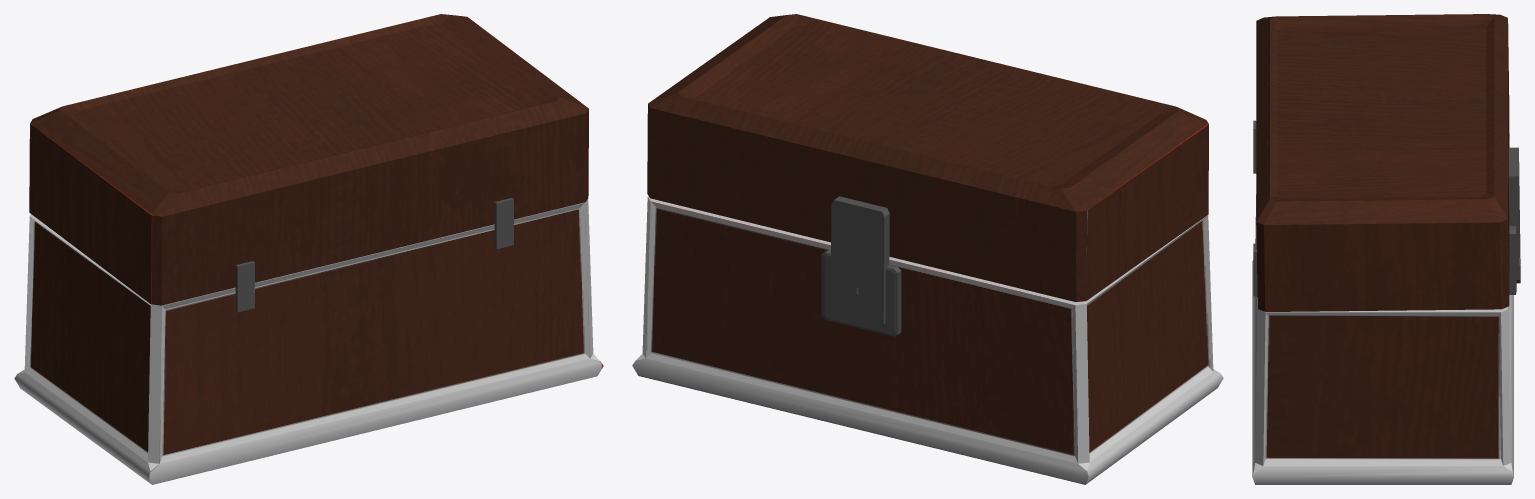
Rendered from Idle.fbx.
The picture shows the model from 3 angles, left to right: view 1: azimuth 30°, elevation 25°; view 2: azimuth 150°, elevation 25°; view 3: azimuth 270°, elevation 25°; orthographic projection. The views are drawn at different scales.
Visible parts, largest first — view 1: pasted__group8_pasted__pCylinder2, pCube8; view 2: pasted__group8_pasted__pCylinder2, pCube8; view 3: pasted__group8_pasted__pCylinder2, pCube8.
Part boxes in pixels (x1,y1,x2,y2): pasted__group8_pasted__pCylinder2: (29, 14, 588, 305); pCube8: (14, 198, 603, 484); pasted__group8_pasted__pCylinder2: (647, 14, 1208, 328); pCube8: (632, 196, 1223, 484); pasted__group8_pasted__pCylinder2: (1256, 14, 1520, 311); pCube8: (1252, 120, 1516, 484).
Size of the model in its own units: 2.03 by 1.2 by 1.07.
